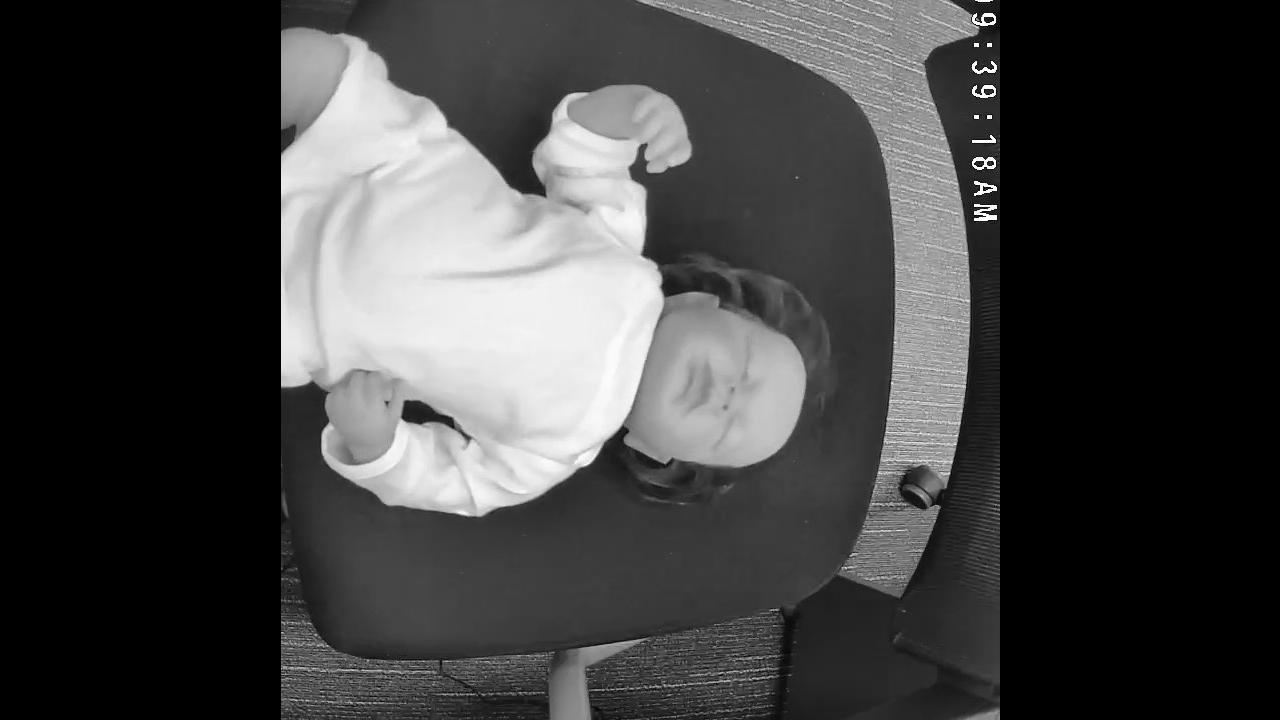hand: (320, 367, 408, 444), (627, 87, 689, 172)
